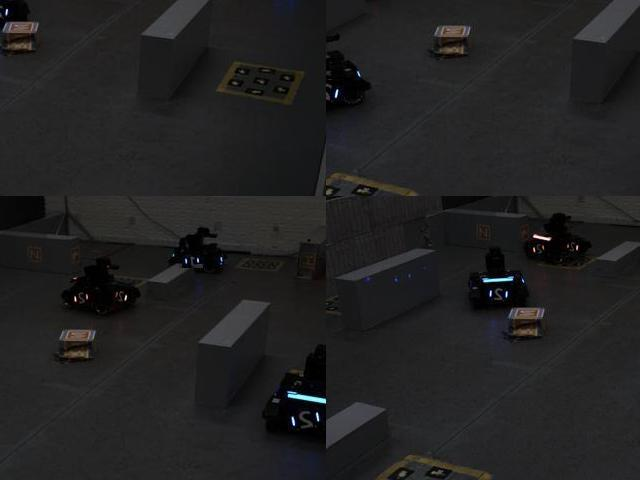armor: (288, 405, 324, 435), (484, 283, 514, 303), (326, 80, 346, 108), (72, 288, 95, 309), (562, 239, 585, 256), (527, 241, 551, 257), (113, 287, 133, 306), (182, 252, 204, 269), (0, 5, 15, 21)
